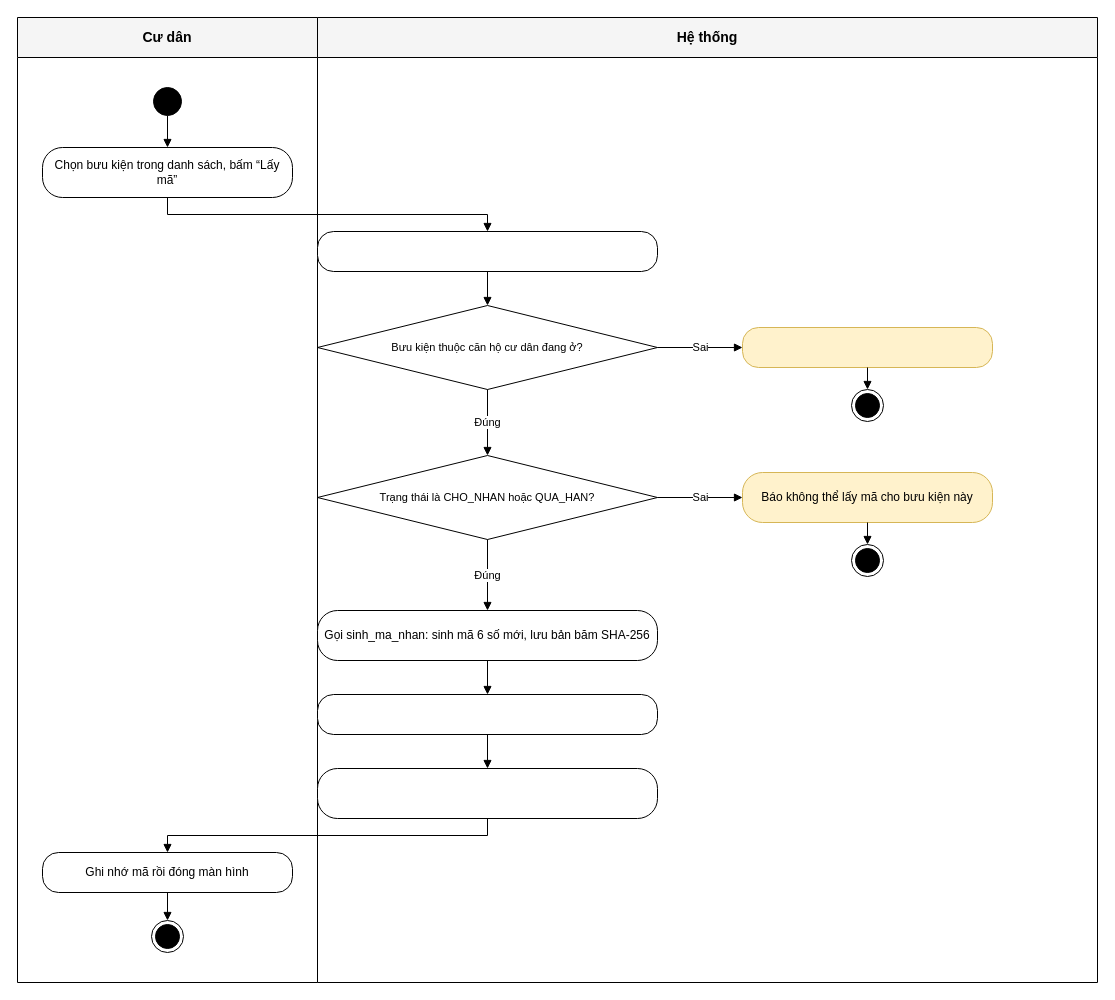
This 1115x1000 diagram has some shape labels left out. Here are the shapes that lost their labels. From the top down, the centre of each, then its label:
At point 487,251: "Gọi API POST .../lay-ma".
At point 867,347: "Từ chối yêu cầu, không sinh mã".
At point 487,714: "Trigger vô hiệu mã cũ, ghi audit".
At point 487,793: "Trả mã gốc đúng một lần kèm thời điểm hết hiệu lực".
